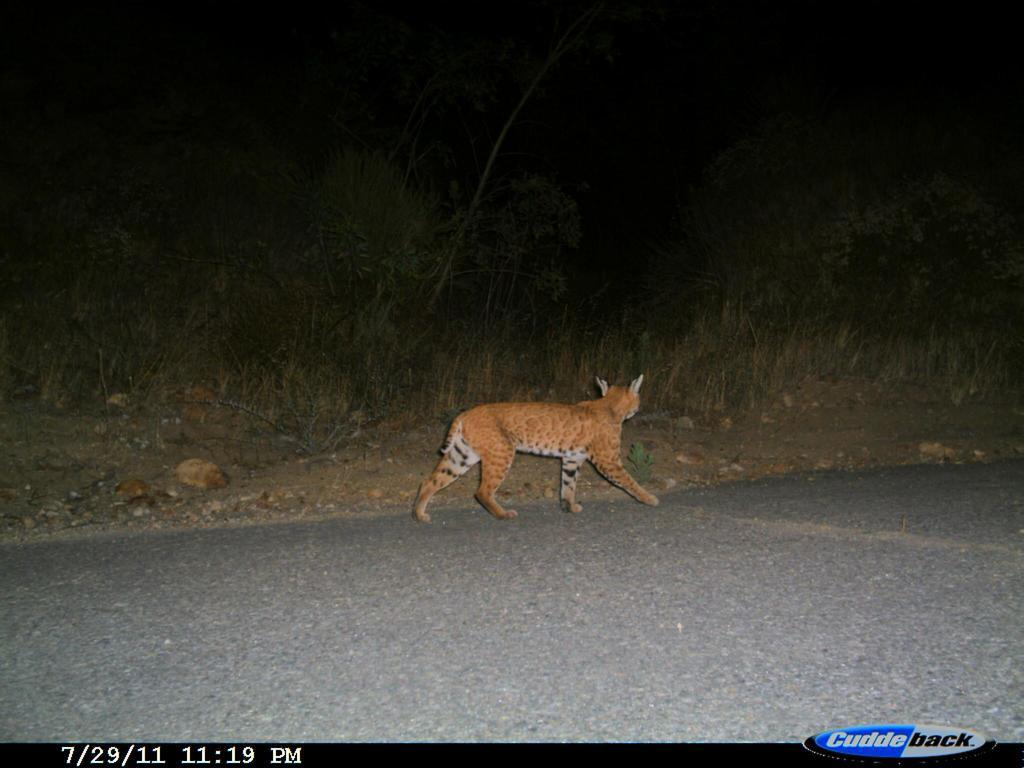bobcat: (408, 370, 666, 528)
